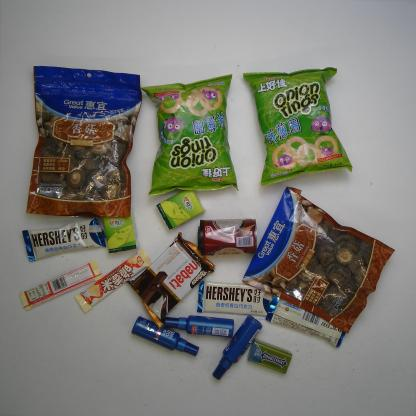Canned Food: (196, 217, 258, 257)
Chocolate: (74, 249, 152, 314), (19, 260, 104, 312), (265, 296, 346, 348), (21, 217, 107, 263), (196, 280, 273, 316)
Dessert: (125, 232, 216, 328)
Dried Food: (242, 186, 396, 334), (26, 64, 144, 218)
Gum: (247, 338, 292, 375)
Personal Hygiene: (212, 314, 264, 381), (131, 316, 200, 357), (164, 314, 235, 338)
Puffed Food: (242, 66, 353, 188), (140, 73, 239, 197)
Tissue: (155, 188, 206, 231), (102, 213, 138, 254)
